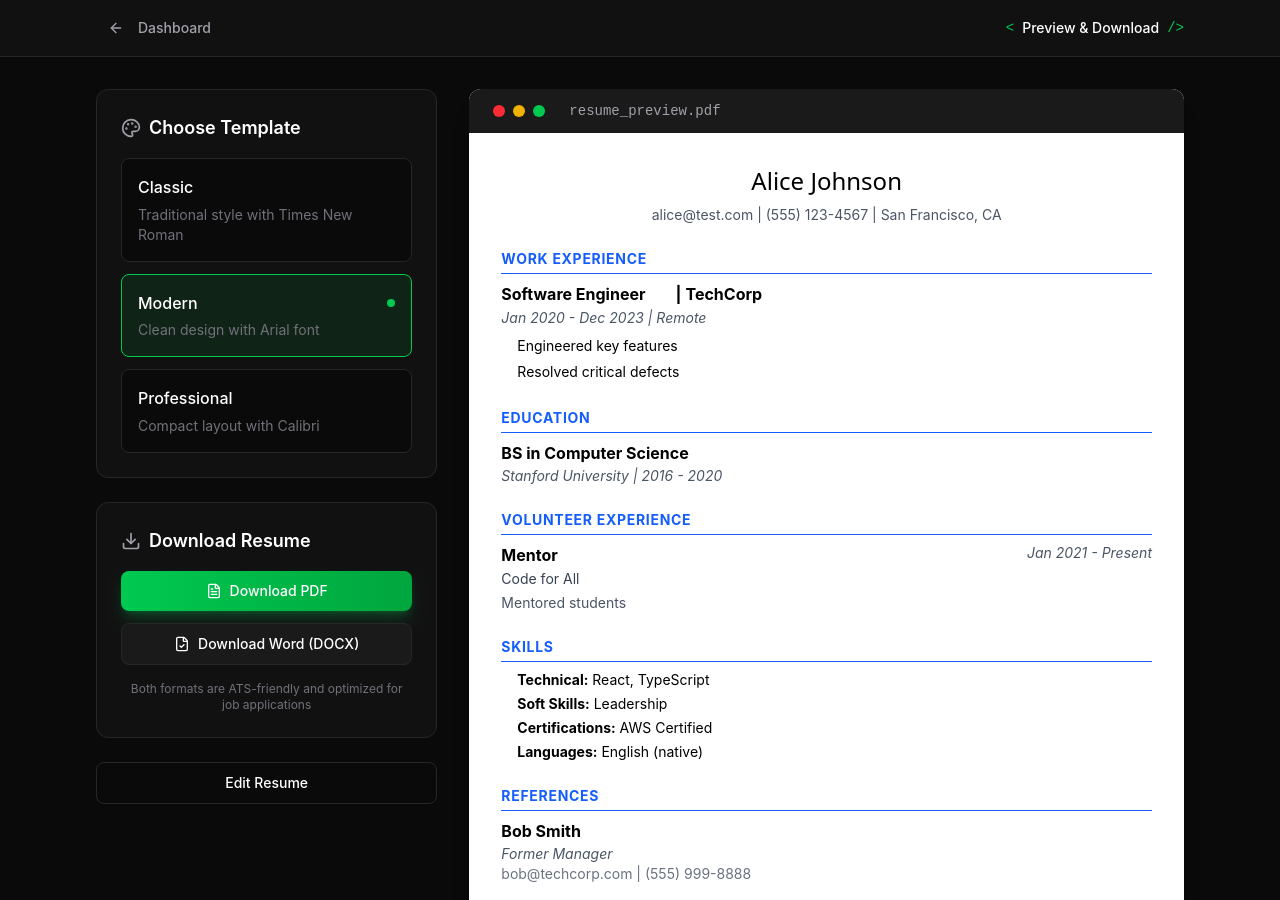
Test: Preview Inline Editing › should allow editing the name on click
The width and height of the screenshot is (1280, 900).
Step 1. Click the heading "Alice Johnson" → (827, 180), box x1=751 y1=164 x2=902 y2=197
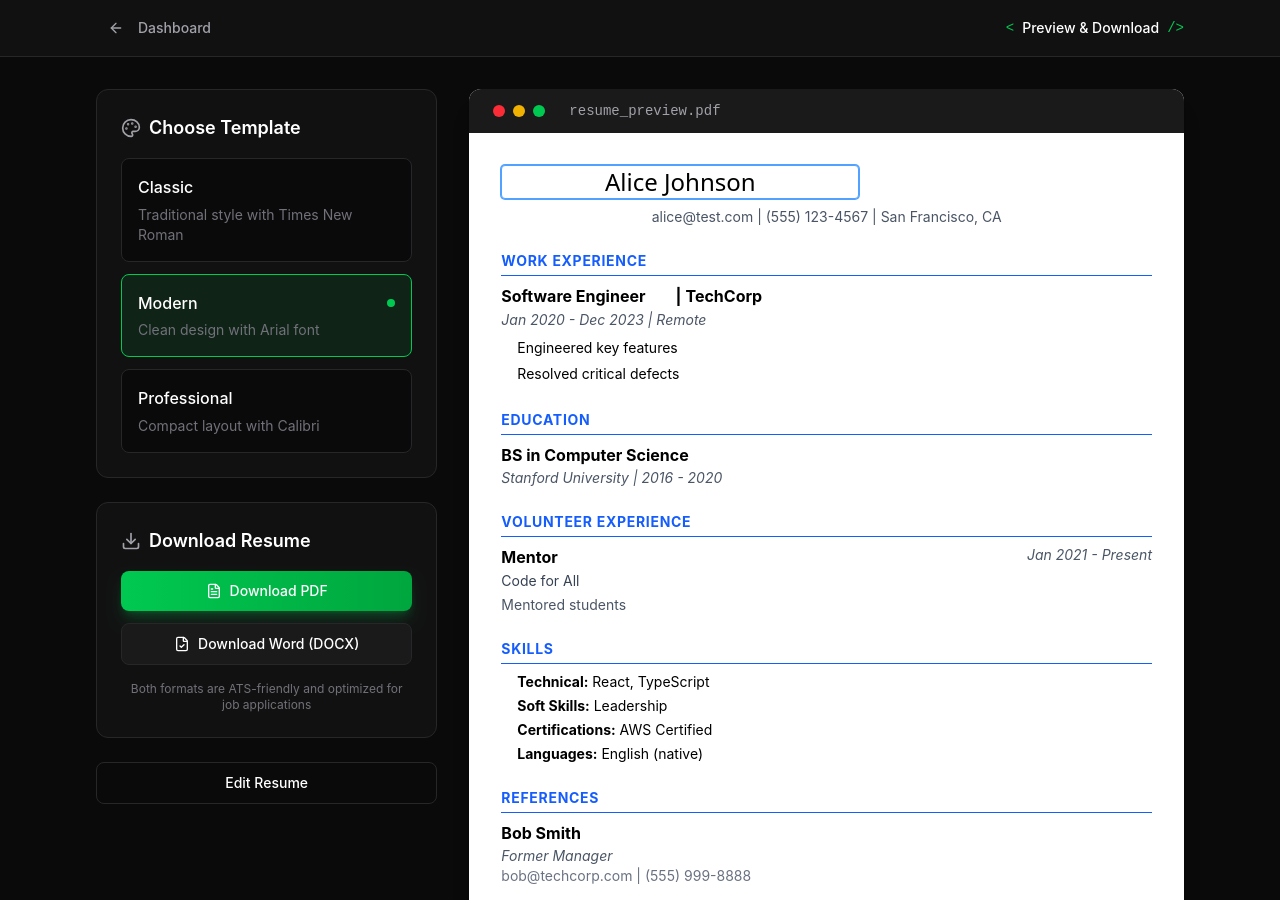
Now the field holds "Alice Johnson", box x1=501 y1=165 x2=859 y2=199
